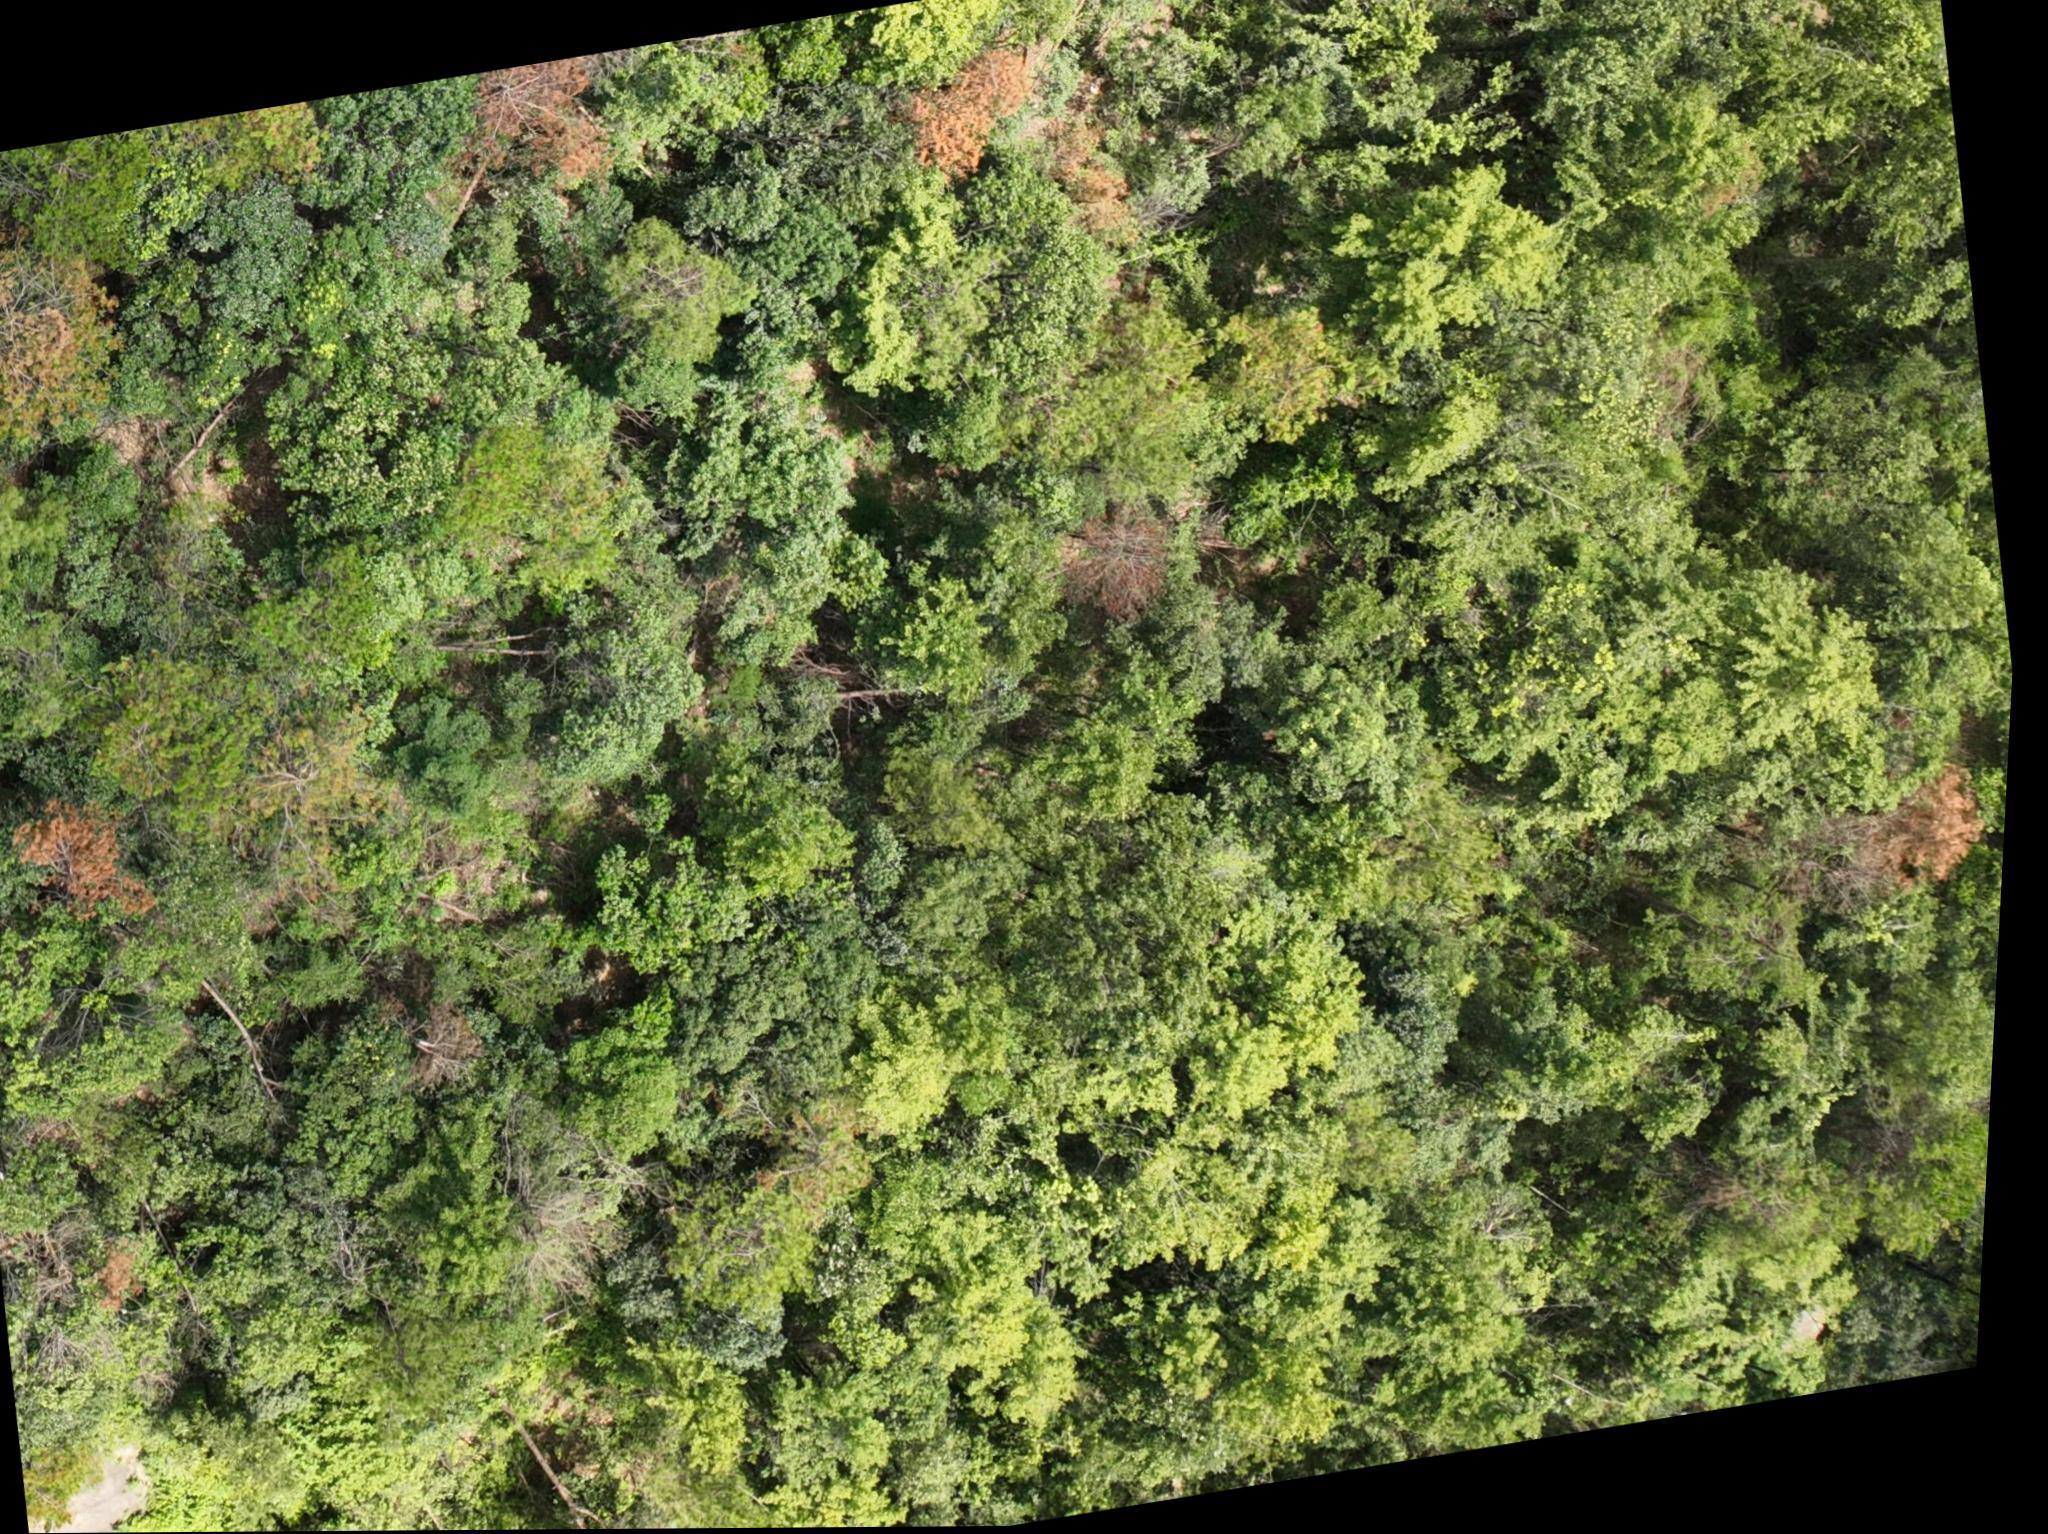heavy: (458, 56, 619, 206), (904, 39, 1049, 189), (0, 221, 108, 413), (1863, 761, 2008, 901), (24, 793, 168, 930), (1060, 508, 1192, 625), (413, 1004, 501, 1099)
light: (226, 701, 403, 859), (211, 102, 329, 193)
